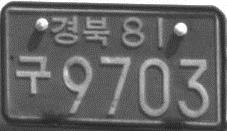0: (136, 57, 170, 117)
1: (155, 14, 166, 49)
3: (177, 57, 211, 120)
7: (98, 53, 132, 118)
8: (121, 15, 145, 48)
9: (61, 54, 94, 117)
경북_O: (49, 14, 111, 48)
구: (13, 53, 53, 97)
